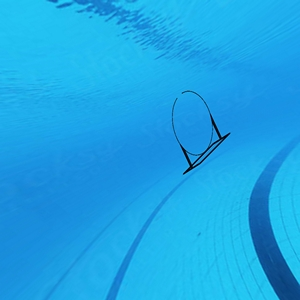circle: (170, 89, 232, 177)
